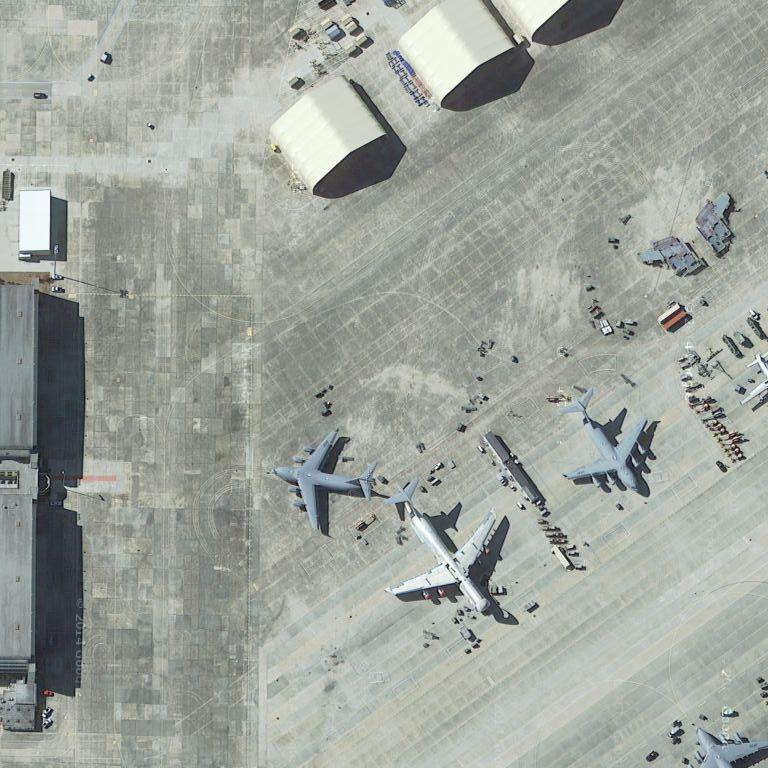C-17: (275, 424, 378, 535), (555, 379, 650, 492)
E-8: (387, 479, 498, 611)
